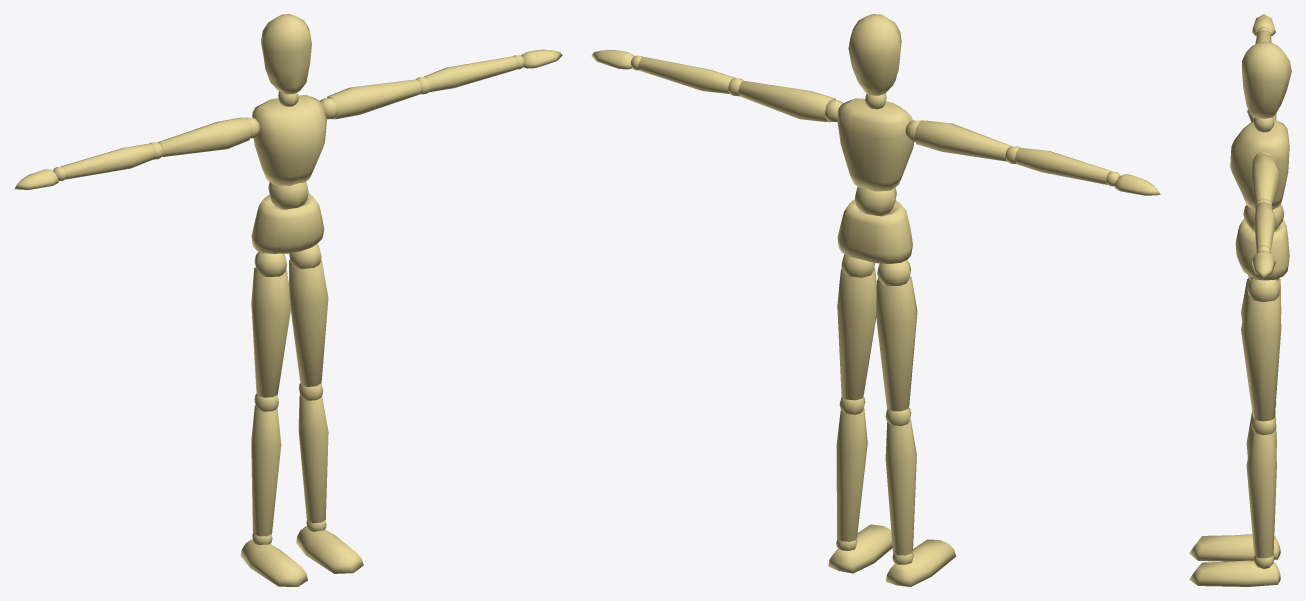
The model's file is Mannaquin2.dae.
3 renders of one model, left to right at view 1: azimuth 30°, elevation 25°; view 2: azimuth 150°, elevation 25°; view 3: azimuth 270°, elevation 25°, orthographic. The views are drawn at different scales.
Visible parts, largest first — view 1: Cylinder_003, Cylinder_002, Cylinder_001, Cylinder_006, Sphere_008, Cylinder, Cylinder_007, Cylinder_004, Cylinder_009, Sphere_014, Sphere, Cylinder_005 (+2 smaller); view 2: Cylinder_003, Cylinder_002, Cylinder_001, Cylinder_006, Cylinder, Sphere_008, Cylinder_007, Cylinder_004, Cylinder_009, Sphere, Sphere_014, Cylinder_005 (+3 smaller); view 3: Cylinder_006, Cylinder_003, Cylinder_007, Sphere_008, Cylinder_002, Sphere_014, Sphere, Cylinder_009, Cylinder_008, Sphere_016, Sphere_009, Cylinder_001 (+2 smaller).
Boxes of the visible parts, box(x1,y1,x2,y2) form: Cylinder_003: box(245, 91, 337, 185); Cylinder_002: box(251, 182, 324, 276); Cylinder_001: box(251, 267, 290, 411); Cylinder_006: box(288, 259, 328, 400); Sphere_008: box(260, 14, 311, 94); Cylinder: box(251, 405, 281, 536); Cylinder_007: box(298, 394, 328, 523); Cylinder_004: box(149, 117, 251, 159); Cylinder_009: box(327, 77, 430, 119); Sphere_014: box(296, 520, 363, 573); Sphere: box(240, 533, 307, 586); Cylinder_005: box(60, 144, 154, 179); Cylinder_003: box(824, 93, 920, 191); Cylinder_002: box(837, 187, 912, 285); Cylinder_001: box(876, 276, 917, 425); Cylinder_006: box(837, 268, 876, 414); Cylinder: box(885, 419, 916, 555); Sphere_008: box(848, 14, 901, 95); Cylinder_007: box(836, 408, 867, 541); Cylinder_004: box(914, 120, 1020, 163); Cylinder_009: box(728, 78, 835, 122); Sphere: box(886, 539, 955, 586); Sphere_014: box(828, 524, 892, 573); Cylinder_005: box(1015, 148, 1112, 184); Cylinder_006: box(1241, 294, 1281, 434); Cylinder_003: box(1230, 117, 1289, 209); Cylinder_007: box(1246, 430, 1276, 558); Sphere_008: box(1242, 41, 1291, 118); Cylinder_002: box(1235, 205, 1289, 302); Sphere_014: box(1189, 555, 1280, 586); Sphere: box(1189, 534, 1280, 561); Cylinder_009: box(1251, 153, 1280, 208); Cylinder_008: box(1254, 201, 1276, 250); Sphere_016: box(1251, 245, 1275, 278); Sphere_009: box(1252, 14, 1275, 36); Cylinder_001: box(1241, 278, 1281, 406).
Size of the model in its own units: 14.87 by 2.47 by 13.89.
